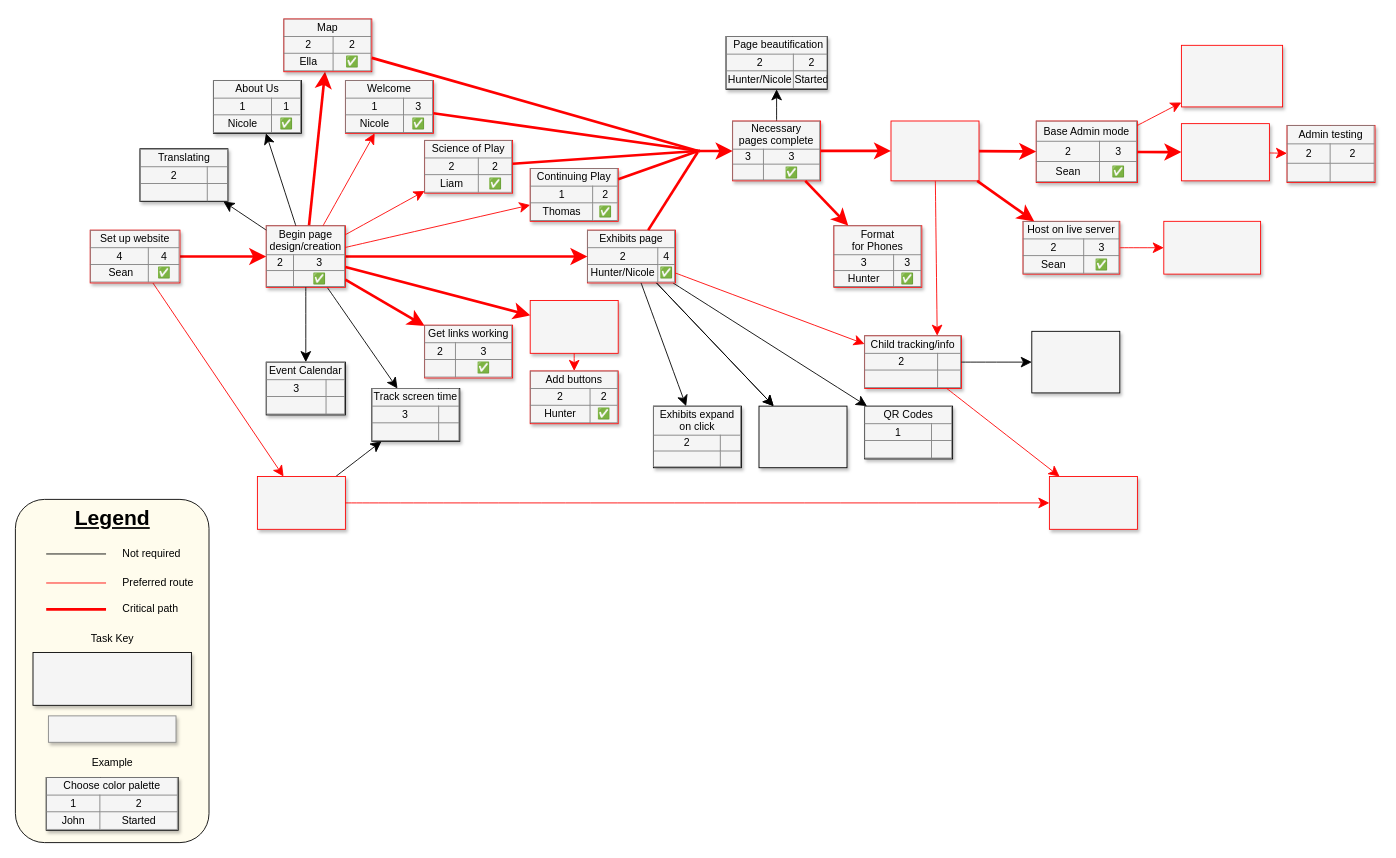
The diagram is 1396 pixels wide and 858 high, and some of its shapes have lost their labels. The centre of each missing label's shape, as x and y in pixels:
*Larger number corresponds to higher difficulty or priority: point (112, 729)
Access for Admin mode 3 3 Sean Started: point (1226, 153)
Detailed Admin mode 3 3 Nicole/Sean Started: point (1232, 77)
Exhibit Search function 3: point (803, 438)
Footer 2 3 Hunter/Nicole ✅: point (574, 327)
Integrate pages to Django 3 3 Sean/Nicole ✅: point (935, 152)
Set up Database 3 4 Sean ✅: point (302, 503)
Tailored follow up activities/places 2: point (1076, 363)
Title Difficulty (1-4)* Priority (1-4)* Team member(s) Status: point (113, 679)
Track to database 2: point (1094, 503)
User end Testing 1 2: point (1212, 248)
